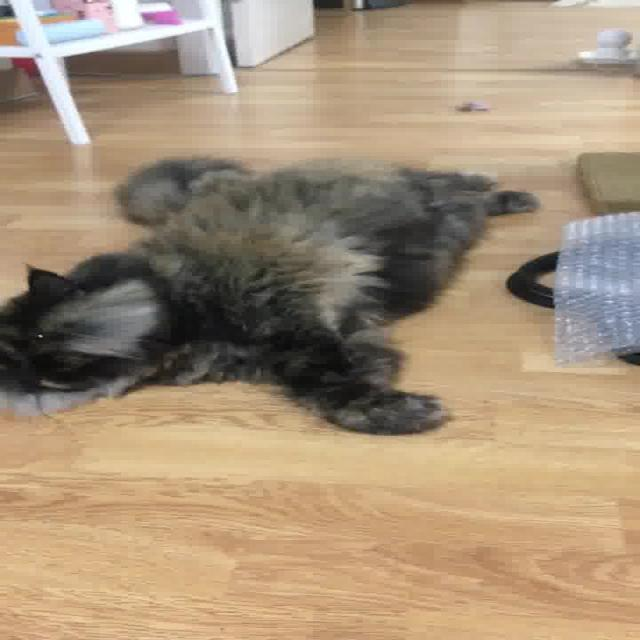cat: (0, 148, 545, 440)
